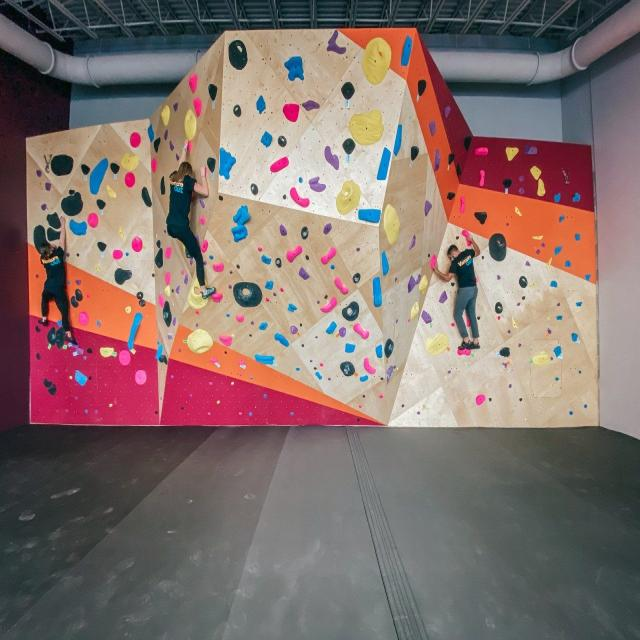hold: (362, 37, 391, 85), (349, 110, 384, 145), (336, 180, 361, 215), (89, 158, 109, 195), (233, 282, 262, 307), (186, 328, 212, 355), (383, 204, 400, 245), (188, 276, 208, 310), (61, 192, 84, 217), (229, 40, 248, 70), (127, 312, 142, 350), (219, 147, 236, 180), (488, 233, 507, 262), (425, 333, 449, 355), (326, 29, 346, 55), (284, 56, 304, 82), (376, 147, 391, 181), (51, 154, 74, 176), (290, 187, 310, 208), (184, 109, 197, 141), (47, 327, 65, 349), (324, 146, 339, 170), (232, 205, 250, 225), (401, 35, 412, 67), (33, 225, 46, 252), (121, 153, 139, 172), (282, 103, 300, 122), (342, 301, 359, 321), (69, 219, 88, 236), (358, 209, 381, 223), (372, 277, 382, 308), (114, 268, 132, 285), (231, 225, 248, 243), (393, 123, 402, 157), (270, 157, 289, 173), (353, 323, 370, 340), (286, 245, 302, 263), (309, 176, 326, 192), (320, 297, 337, 313), (46, 212, 61, 230), (321, 247, 336, 265), (334, 277, 349, 295), (532, 351, 550, 365), (162, 300, 171, 328), (341, 82, 355, 100), (74, 369, 88, 387), (254, 353, 275, 365), (340, 361, 355, 377), (342, 138, 355, 155), (363, 357, 376, 374), (141, 187, 152, 207), (381, 251, 390, 275), (46, 227, 60, 242), (274, 333, 289, 347), (301, 100, 320, 111), (384, 338, 394, 358), (256, 95, 266, 115), (161, 105, 170, 127), (505, 147, 519, 161), (87, 212, 99, 228), (124, 172, 136, 188), (260, 132, 272, 148), (208, 83, 218, 102), (386, 365, 396, 384), (192, 98, 202, 117), (154, 247, 163, 268), (474, 212, 488, 225), (135, 370, 147, 385), (78, 311, 89, 327), (130, 132, 141, 148), (461, 230, 472, 246), (325, 322, 338, 335), (530, 165, 541, 180), (131, 237, 142, 252), (119, 350, 130, 365), (419, 275, 428, 293), (407, 275, 416, 293), (189, 75, 198, 93), (219, 335, 232, 347), (100, 347, 114, 358), (421, 310, 432, 324), (411, 302, 419, 320), (207, 157, 216, 173), (155, 343, 163, 361), (106, 185, 117, 198), (299, 267, 310, 280), (148, 123, 155, 143), (434, 149, 440, 172), (153, 137, 161, 154), (418, 80, 426, 97), (424, 200, 432, 217), (538, 178, 545, 197), (475, 394, 486, 406), (525, 145, 538, 155), (439, 290, 448, 304), (475, 147, 489, 156), (499, 347, 510, 358), (110, 163, 120, 175), (411, 146, 419, 161), (464, 136, 472, 151), (212, 262, 224, 272), (211, 293, 223, 303), (409, 234, 416, 251), (70, 295, 79, 308), (48, 383, 57, 396), (278, 135, 287, 148), (519, 275, 528, 288), (279, 224, 288, 237), (553, 345, 562, 358), (160, 176, 166, 195), (429, 121, 436, 137), (96, 199, 106, 210), (345, 343, 356, 353), (81, 163, 90, 175), (250, 183, 259, 195), (151, 158, 158, 173), (301, 227, 309, 240), (459, 197, 465, 214), (479, 170, 485, 187), (112, 250, 122, 260), (261, 255, 271, 265), (503, 178, 512, 189), (457, 349, 471, 356), (375, 344, 382, 358), (544, 257, 552, 269), (233, 105, 241, 117), (323, 223, 331, 235), (430, 254, 436, 270), (75, 289, 82, 302), (201, 240, 208, 253), (527, 279, 537, 288), (119, 227, 125, 242), (43, 378, 52, 388), (159, 355, 168, 365), (352, 273, 361, 283), (265, 280, 274, 290), (572, 192, 581, 202), (553, 245, 562, 255), (448, 153, 455, 165), (158, 293, 164, 307), (288, 303, 297, 312), (98, 242, 106, 252), (199, 196, 205, 209), (445, 105, 451, 118), (165, 272, 171, 285), (515, 206, 522, 217), (512, 317, 519, 328), (495, 302, 502, 313), (554, 192, 561, 203), (164, 285, 170, 297), (290, 325, 298, 334), (236, 315, 245, 323), (259, 322, 268, 330), (315, 371, 323, 380), (339, 327, 346, 337), (359, 375, 369, 382), (571, 332, 578, 342), (415, 274, 421, 285), (165, 247, 171, 258), (531, 235, 544, 240), (466, 314, 471, 327), (136, 292, 144, 300), (447, 192, 455, 200), (75, 348, 84, 355), (275, 258, 281, 268), (456, 163, 461, 175), (169, 140, 174, 152), (172, 102, 178, 112), (518, 187, 525, 195), (574, 233, 581, 241), (564, 260, 572, 267), (550, 280, 557, 288), (45, 183, 51, 192), (209, 357, 218, 363), (559, 214, 564, 224), (75, 279, 82, 286), (584, 274, 591, 281), (35, 326, 41, 334), (139, 299, 145, 307), (164, 129, 168, 141), (175, 285, 180, 294), (200, 216, 205, 225), (125, 306, 131, 313), (36, 170, 42, 177), (71, 343, 78, 349), (156, 240, 161, 248), (41, 203, 46, 211), (172, 316, 176, 326), (184, 274, 188, 284), (36, 352, 40, 361), (525, 261, 531, 267), (95, 265, 100, 272), (305, 254, 310, 261), (519, 175, 524, 182), (238, 360, 245, 365), (57, 320, 62, 327), (576, 302, 583, 307), (556, 315, 563, 320), (176, 153, 180, 161), (69, 190, 75, 195), (87, 347, 92, 353), (219, 195, 224, 201), (547, 328, 552, 334), (502, 362, 507, 368), (188, 142, 191, 152), (195, 309, 200, 315), (265, 296, 270, 302), (298, 177, 303, 183), (190, 257, 193, 266), (196, 235, 199, 244), (167, 335, 172, 340), (319, 362, 324, 367), (263, 394, 268, 399), (248, 412, 253, 417), (324, 294, 328, 300), (203, 260, 207, 266), (536, 249, 540, 255), (280, 287, 284, 293), (82, 356, 87, 360), (228, 284, 232, 289), (356, 247, 360, 252), (541, 242, 545, 247), (497, 275, 501, 280), (258, 247, 262, 252), (379, 394, 383, 399), (451, 322, 455, 327), (497, 316, 501, 321), (290, 411, 294, 416), (569, 411, 573, 416), (170, 375, 174, 380), (181, 269, 184, 275), (547, 316, 551, 320), (519, 398, 523, 402), (296, 367, 300, 371), (555, 377, 559, 381), (578, 370, 582, 374), (584, 404, 588, 408), (226, 313, 230, 317), (195, 323, 199, 327), (282, 195, 286, 199), (157, 341, 160, 346), (69, 375, 72, 380), (85, 408, 88, 413), (476, 277, 478, 284), (88, 376, 91, 380), (313, 367, 317, 370), (380, 377, 384, 380), (488, 398, 492, 401), (230, 270, 233, 274), (358, 405, 362, 408), (236, 265, 240, 268), (109, 403, 112, 407), (180, 407, 184, 410), (155, 410, 158, 414), (522, 296, 525, 300), (517, 302, 520, 306), (518, 343, 521, 347), (301, 344, 304, 347), (362, 395, 365, 398), (557, 303, 560, 306), (508, 330, 511, 333), (300, 323, 302, 327)
